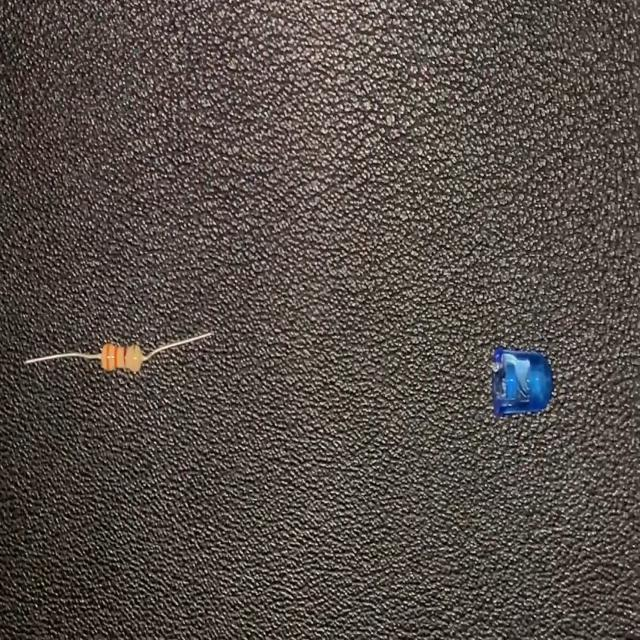missing-leg: (488, 342, 554, 420)
resistor: (22, 322, 216, 379)
